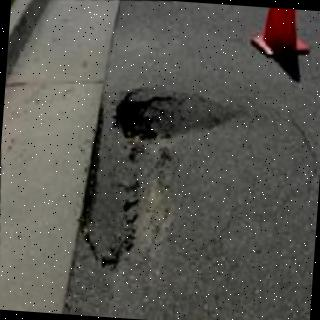pothole: (116, 88, 240, 141)
